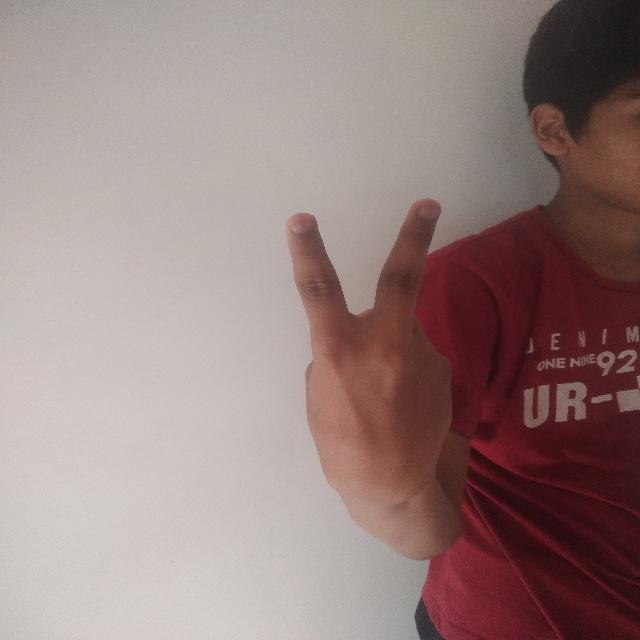Reversed Victory: (275, 191, 468, 524)
